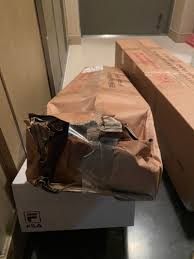damaged package: (20, 111, 145, 194), (63, 68, 129, 92), (129, 138, 154, 172)
